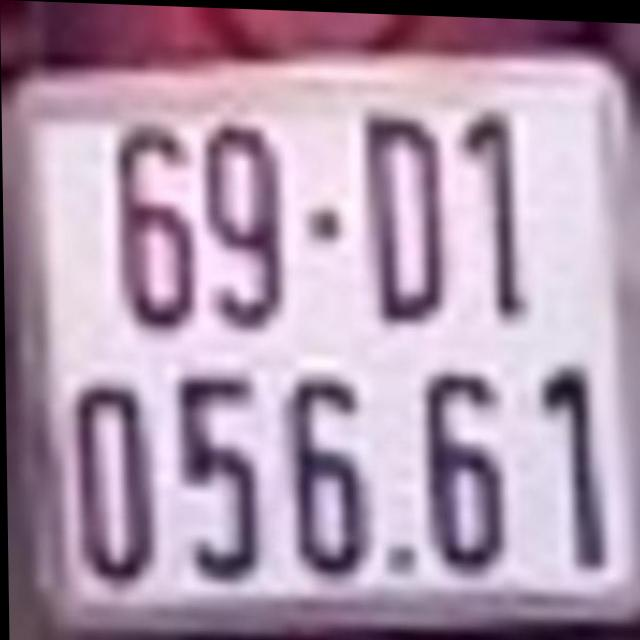0: (69, 372, 166, 588)
1: (532, 346, 613, 569), (467, 107, 527, 317)
5: (166, 365, 264, 588)
6: (112, 116, 204, 335), (417, 359, 510, 575), (280, 359, 367, 574)
9: (206, 117, 288, 340)
D: (362, 109, 452, 325)
